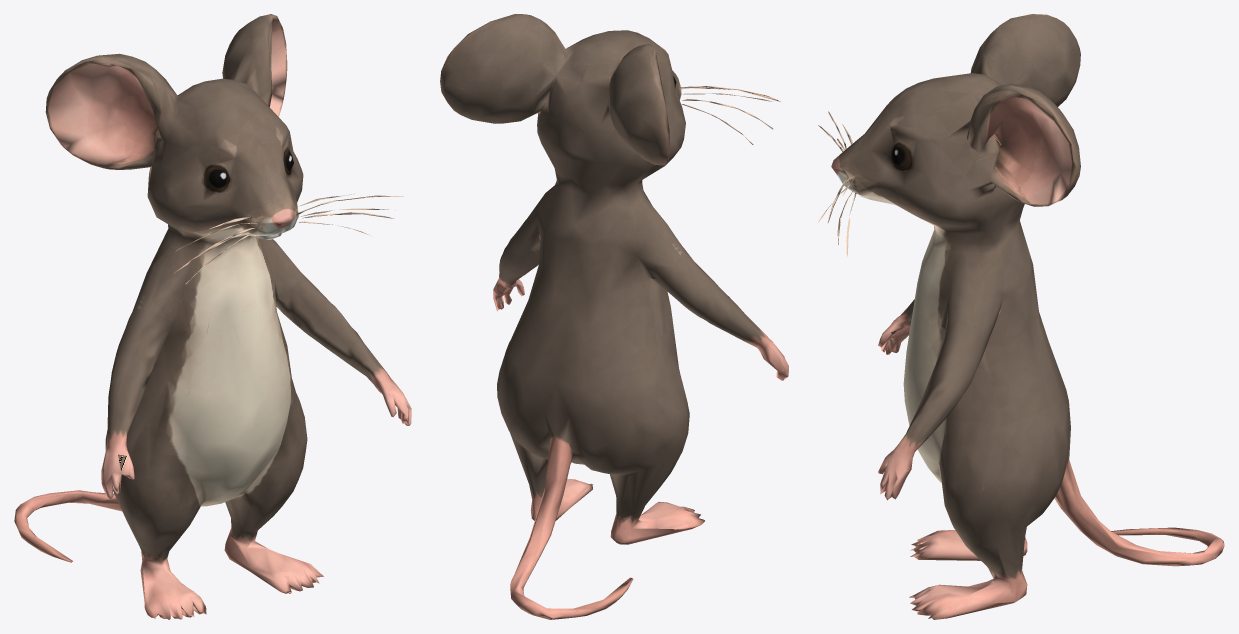
File: mouse-arms.glb
The picture shows the model from 3 angles, left to right: view 1: azimuth 30°, elevation 25°; view 2: azimuth 150°, elevation 25°; view 3: azimuth 270°, elevation 25°; orthographic projection. The views are drawn at different scales.
Visible parts, largest first — view 1: mouse; view 2: mouse; view 3: mouse.
Part boxes in pixels (x1,y1,x2,y2): mouse: [14, 14, 411, 619]; mouse: [440, 14, 788, 619]; mouse: [818, 14, 1224, 619].
Bounding box in the file's own units: 1.15 × 1.9 × 1.33.
1 material, 1 textured.
